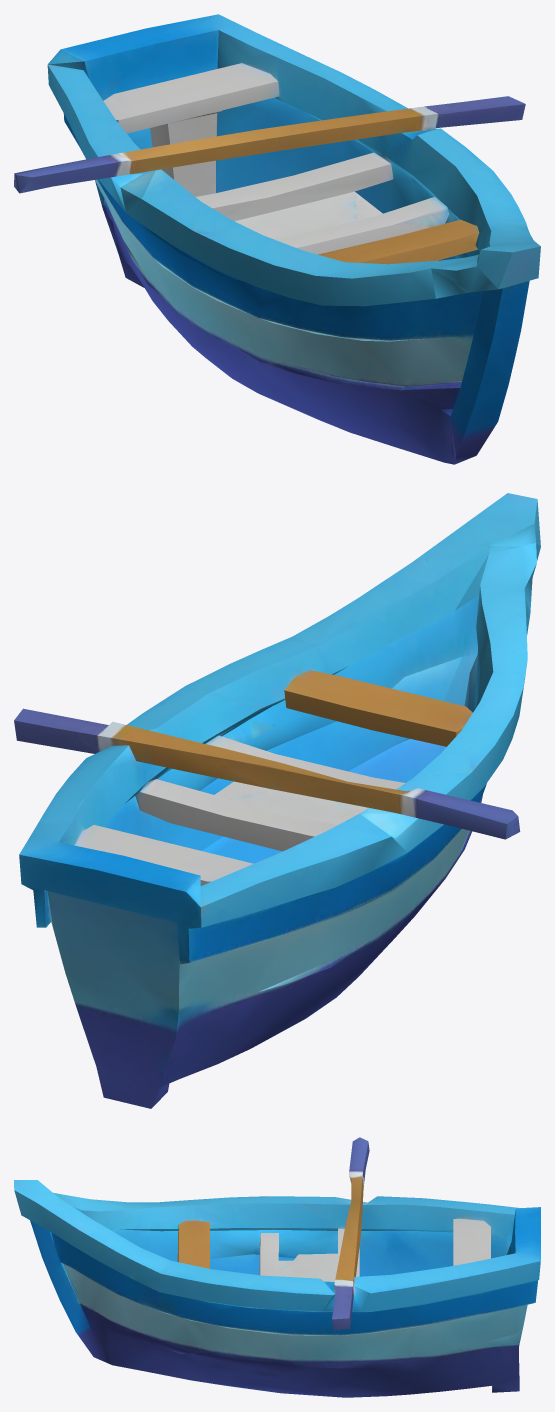
File: boat.glb
3 renders of one model, top to bottom at view 1: azimuth 30°, elevation 25°; view 2: azimuth 150°, elevation 25°; view 3: azimuth 270°, elevation 25°, orthographic. The views are drawn at different scales.
Visible parts, largest first — view 1: model; view 2: model; view 3: model.
Part boxes in pixels (bbox=[...]): model: bbox=[14, 14, 540, 464]; model: bbox=[14, 493, 540, 1108]; model: bbox=[14, 1137, 540, 1397].
Bounding box in the file's own units: 1.37 × 0.7974 × 1.9.
1 material, 1 textured.
